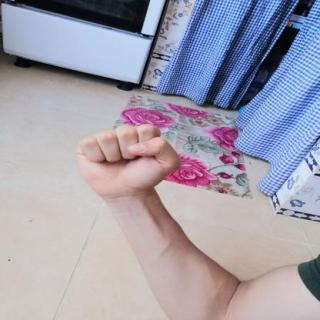SAD: (62, 116, 190, 207)
